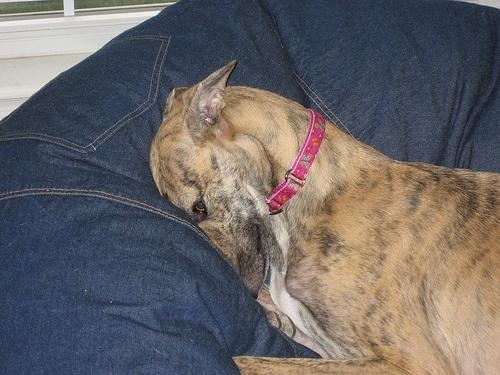dog: (150, 61, 500, 374)
